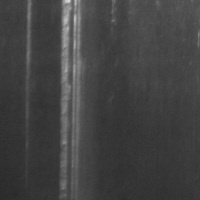scratches: (57, 0, 84, 199), (22, 0, 35, 142)
